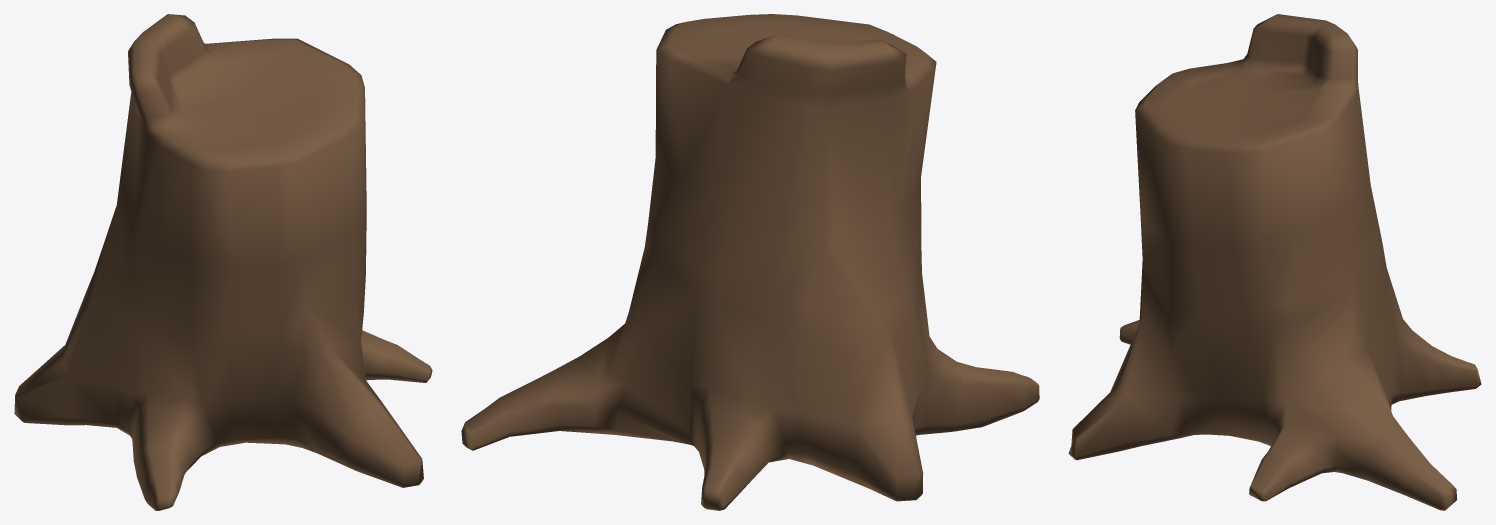
Rendered from TreeStump.fbx.
The picture shows the model from 3 angles, left to right: view 1: azimuth 30°, elevation 25°; view 2: azimuth 150°, elevation 25°; view 3: azimuth 270°, elevation 25°; orthographic projection. The views are drawn at different scales.
Visible parts, largest first — view 1: TreeStump; view 2: TreeStump; view 3: TreeStump.
Boxes of the visible parts, x1,y1,x2,y2 form: TreeStump: (14,14,432,510); TreeStump: (461,14,1039,510); TreeStump: (1068,14,1481,510).
Bounding box in the file's own units: 79.01 × 78.93 × 78.51.
